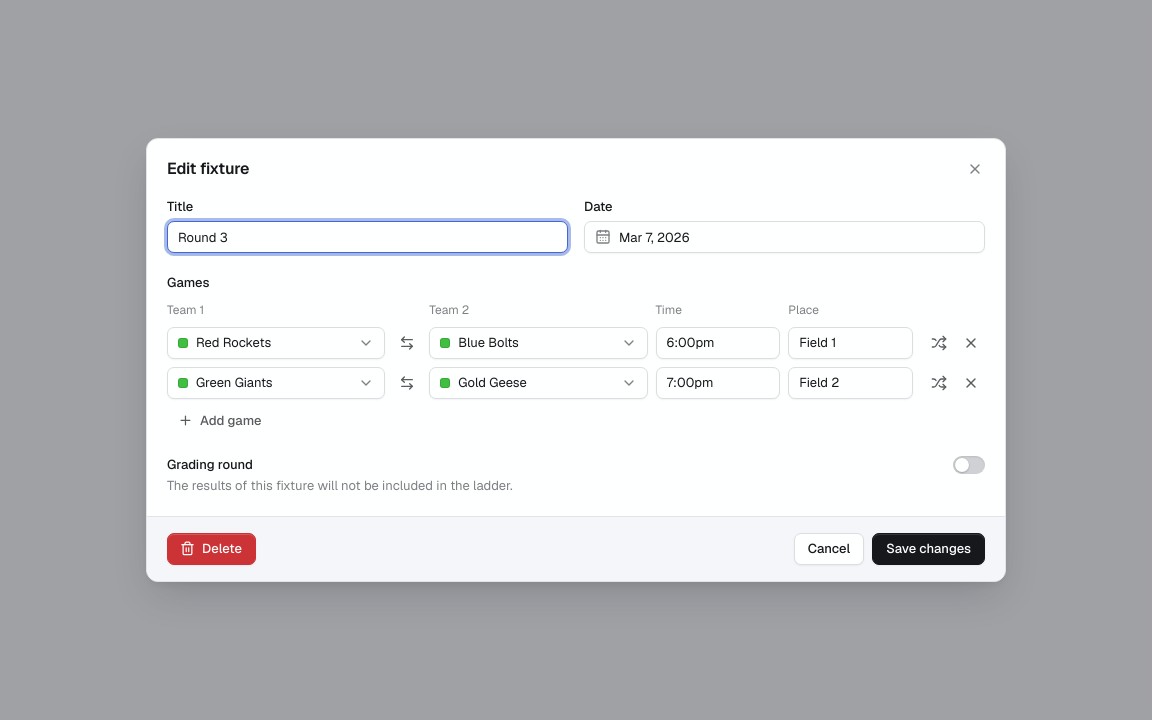
it: FixtureEditDialog › edits an existing fixture: add and remove games, swap teams, then save
The width and height of the screenshot is (1152, 720).
Expected: the field labelled "Title" holds "Round 3", [178,222,557,252]
Expected: the dropdown named "Game 1 team 1" reads "Red Rockets", [167,327,385,359]
Click the button "Add game": (220, 421) [167,407,274,435]
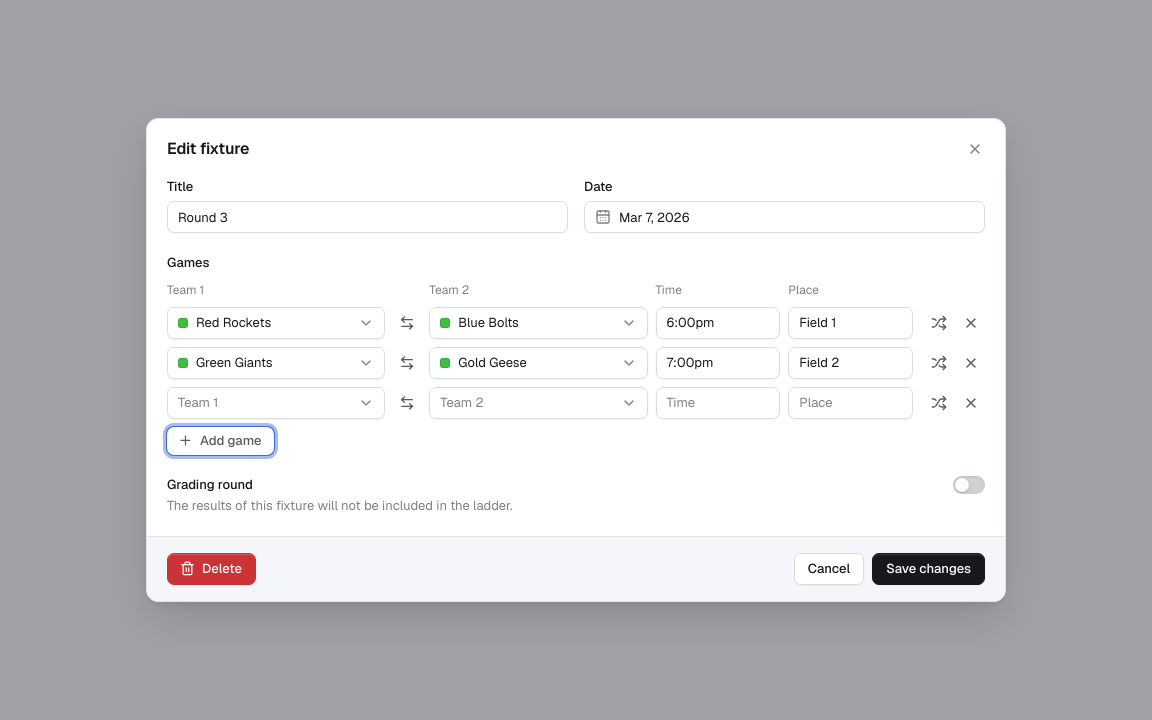
Result: the number of list items is 3 at [167,307,985,339]; [167,347,985,379]; [167,387,985,419]
Click the button named "Remove game 3": (971, 403) [957,389,985,417]
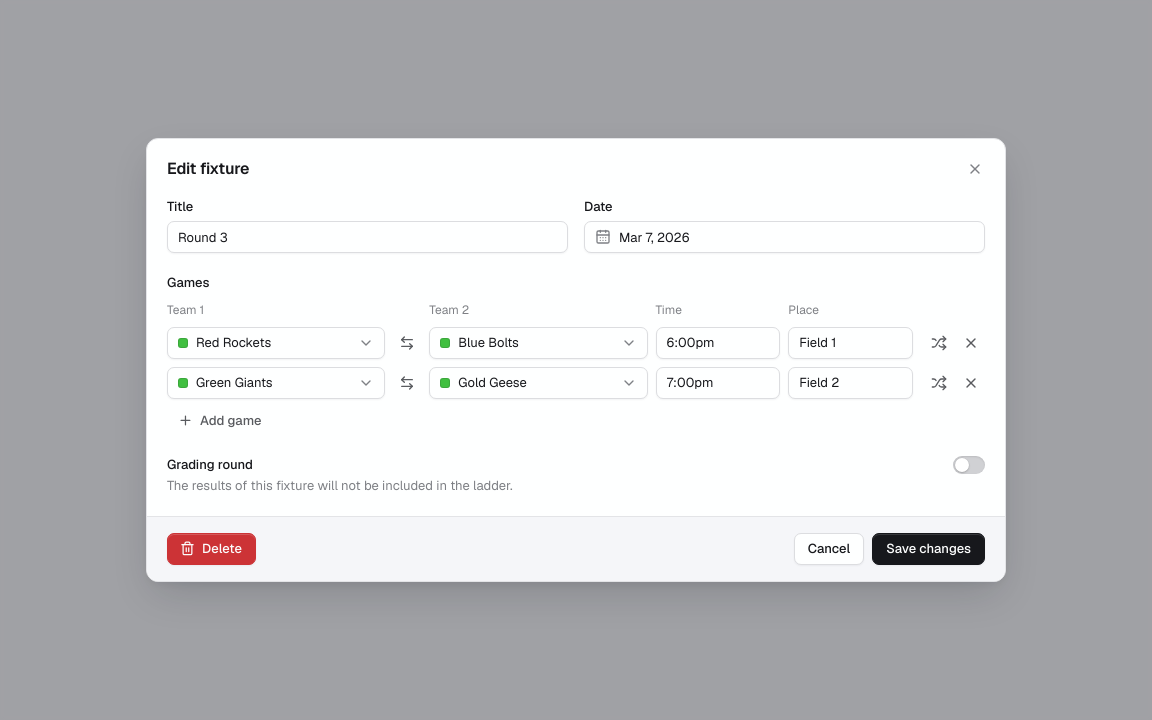
Result: the number of list items is 2 at [167,327,985,359]; [167,367,985,399]
Click the button named "Swap teams in game 1": (407, 343) [393,329,421,357]
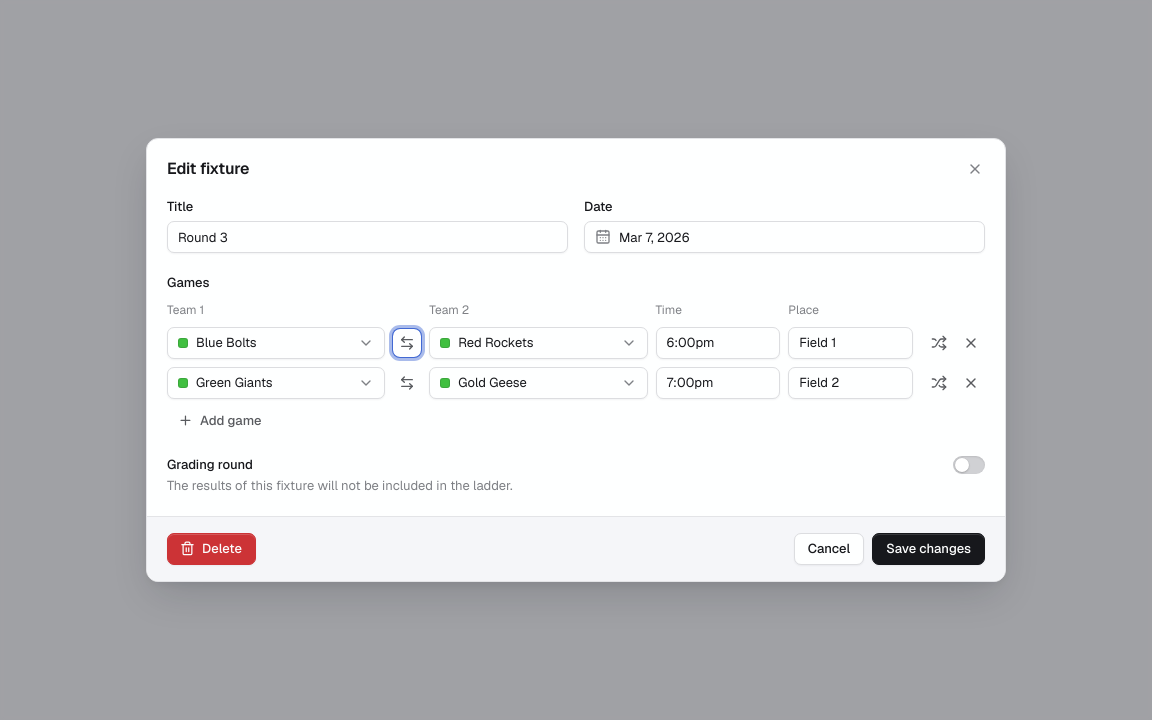
Result: the dropdown named "Game 1 team 1" reads "Blue Bolts" at [167,327,385,359]
Click the button "Save changes": (929, 549) [872,533,985,565]
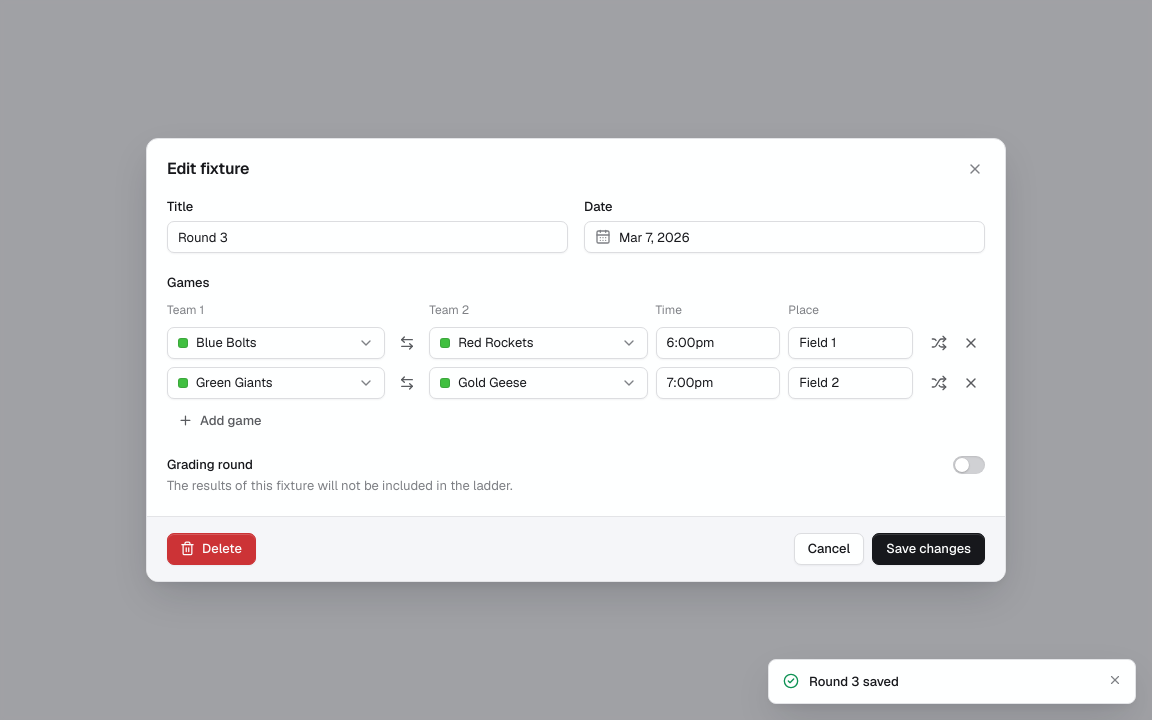
Result: the text "Round 3 saved" is shown at [809,672,899,690]
